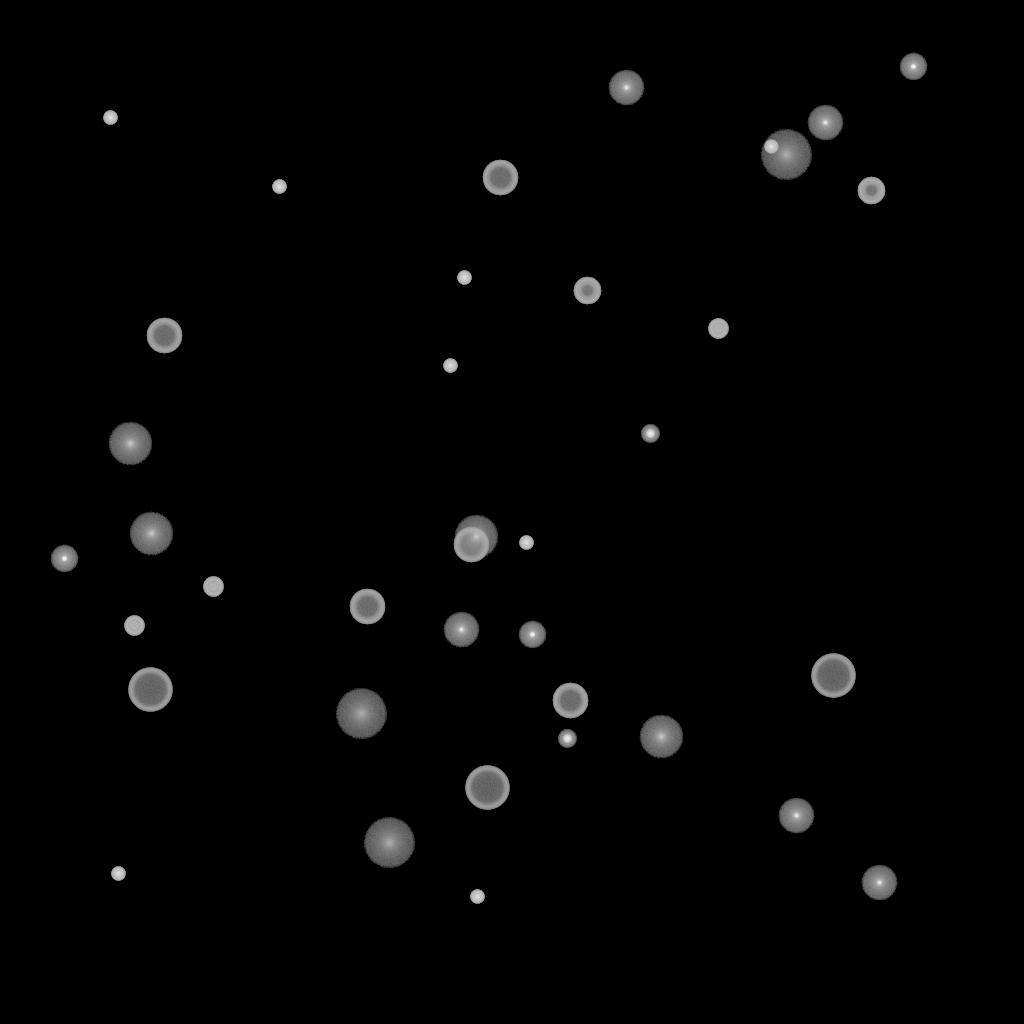depth:-10: (518, 621, 546, 649), (899, 53, 927, 81), (50, 545, 78, 573)
depth:-20: (558, 730, 576, 748), (641, 425, 659, 443)
depth:-30: (272, 180, 286, 194), (764, 140, 778, 154), (519, 536, 533, 550), (443, 359, 457, 373), (457, 271, 471, 285), (470, 890, 484, 904), (111, 867, 125, 881), (103, 111, 117, 125)
depth:-40: (203, 577, 223, 597), (124, 616, 144, 636), (708, 319, 728, 339)
depth:-50: (573, 277, 601, 305), (857, 177, 885, 205)
depth:-60: (482, 160, 518, 196), (552, 683, 588, 719), (349, 589, 385, 625), (453, 527, 489, 563), (146, 318, 182, 354)
depth:-70: (128, 668, 172, 712), (811, 654, 855, 698), (465, 766, 509, 810)
depth:0: (778, 798, 814, 834), (807, 105, 843, 141), (608, 70, 644, 106), (861, 865, 897, 901), (443, 612, 479, 648)
depth:10: (129, 512, 173, 556), (108, 422, 152, 466), (454, 515, 498, 559), (639, 715, 683, 759)
depth:20: (760, 130, 812, 180), (335, 689, 387, 739), (363, 818, 415, 868)
